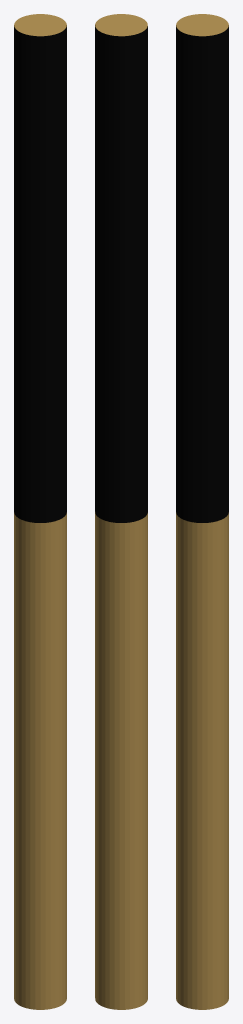
Rendered from gate_side.dae.
3 renders of one model, left to right at view 1: azimuth 90°, elevation 25°; view 2: azimuth 210°, elevation 25°; view 3: azimuth 270°, elevation 25°, orthographic.
Visible parts, largest first — view 1: Cylinder (×2); view 2: Cylinder (×2); view 3: Cylinder (×2).
Boxes of the visible parts, left/top/right/bottom form: Cylinder (×2): left=14, top=14, right=66, bottom=1009; Cylinder (×2): left=95, top=14, right=147, bottom=1009; Cylinder (×2): left=176, top=14, right=228, bottom=1009.
Size of the model in its own units: 8.99 by 183 by 8.99.
